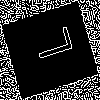L: (25, 24, 74, 65)
